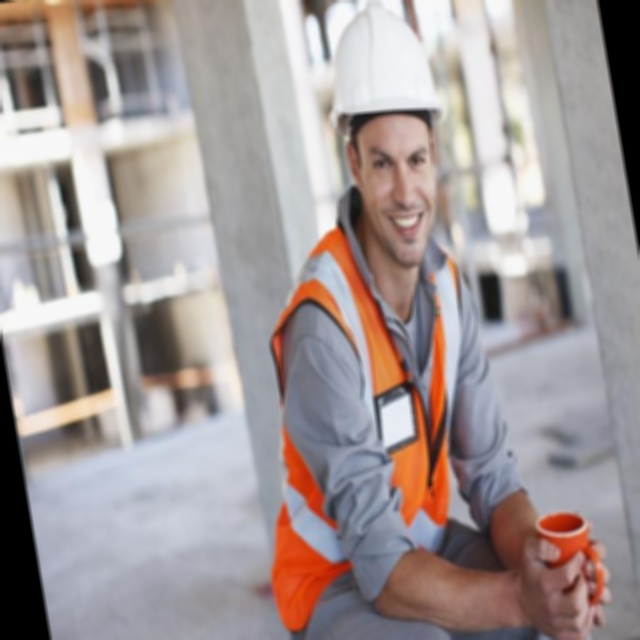Con_Casco: (318, 2, 456, 245)
Con_Chaleco: (220, 238, 516, 634)
